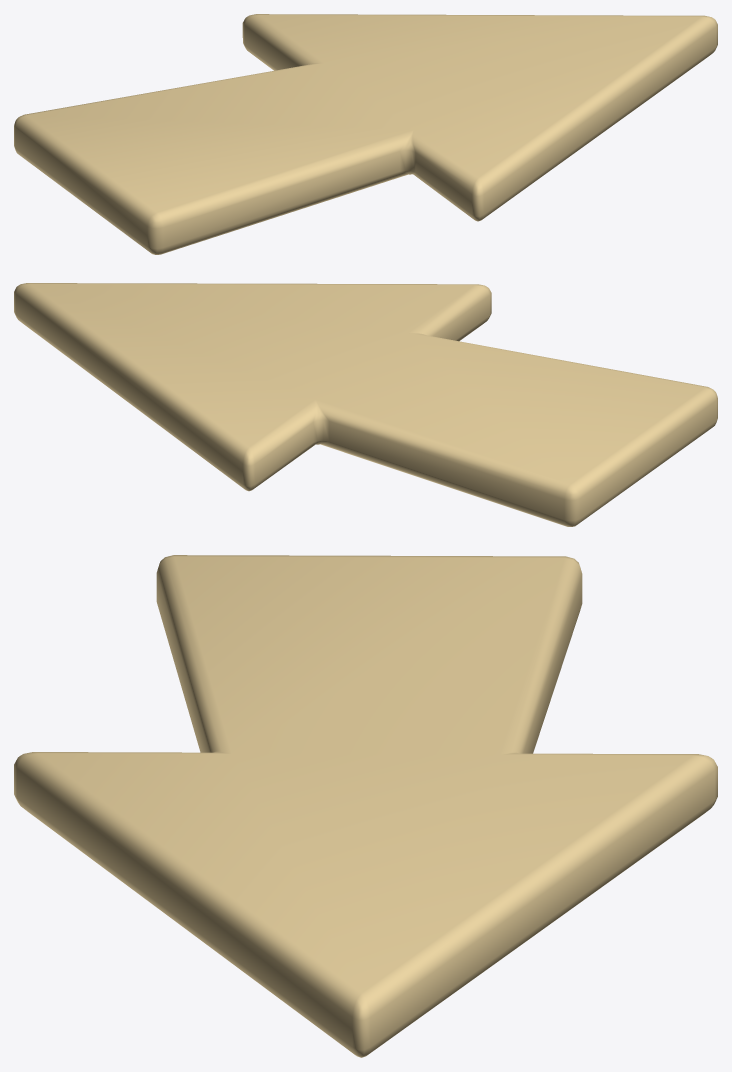
The model's file is aroow.fbx.
3 renders of one model, top to bottom at view 1: azimuth 30°, elevation 25°; view 2: azimuth 150°, elevation 25°; view 3: azimuth 270°, elevation 25°, orthographic. The views are drawn at different scales.
Parts seen in each view (by area): view 1: Arrow; view 2: Arrow; view 3: Arrow.
Boxes of the visible parts, bbox=[...] form: Arrow: bbox=[14, 14, 717, 254]; Arrow: bbox=[14, 283, 717, 526]; Arrow: bbox=[14, 555, 717, 1057].
Bounding box in the file's own units: 1518 × 97.98 × 988.
